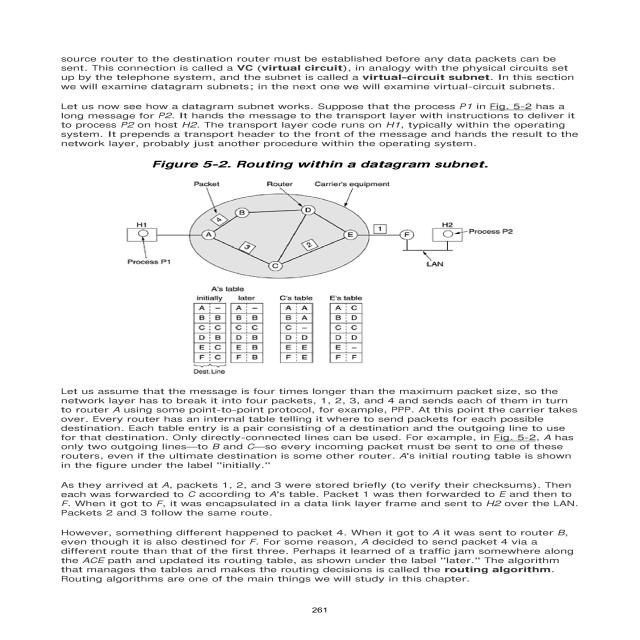diagram: (73, 151, 590, 382)
